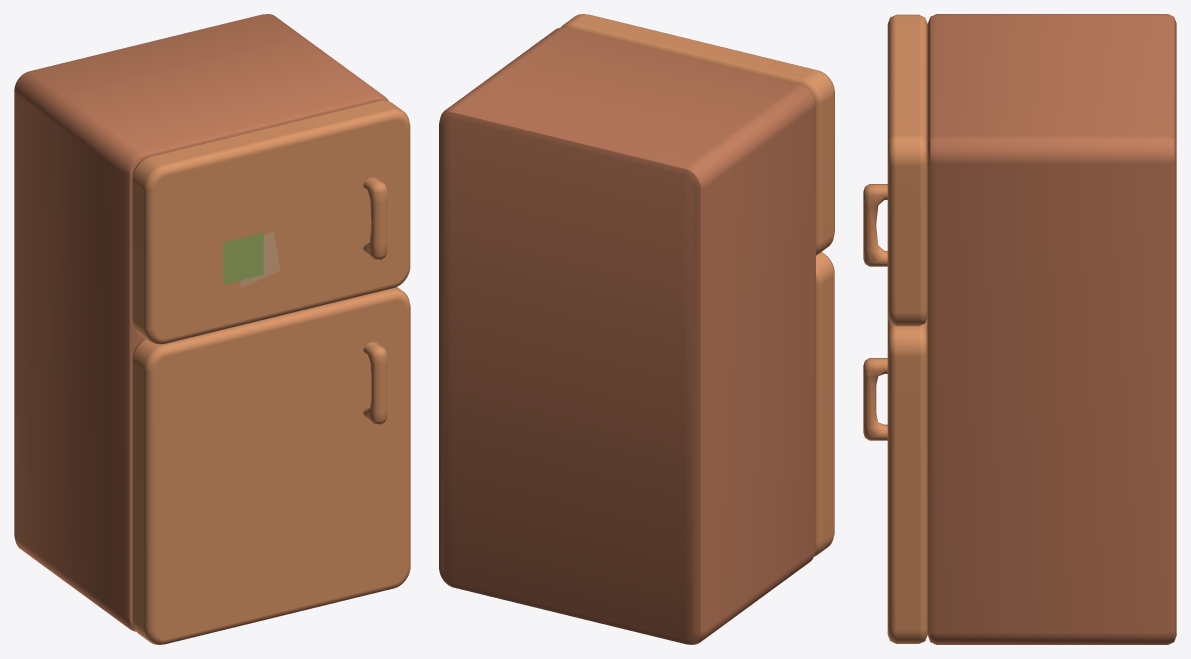
File: refrigerator-transformed.glb
3 views of the same model, side by side, from view 1: azimuth 30°, elevation 25°; view 2: azimuth 150°, elevation 25°; view 3: azimuth 270°, elevation 25° (orthographic). The views are drawn at different scales.
Parts seen in each view (by area): view 1: Boolean.001, Rectangle 8.002, Rectangle 7.001, Rectangle 5.003, Cube 8.005, Cube 44.002, Rectangle 4.004; view 2: Boolean.001, Rectangle 7.001, Rectangle 8.002; view 3: Boolean.001, Rectangle 8.002, Rectangle 7.001, Cube 8.005, Cube 44.002.
Part boxes in pixels (bbox=[...]): Boolean.001: bbox=[14, 14, 388, 631]; Rectangle 8.002: bbox=[132, 287, 410, 644]; Rectangle 7.001: bbox=[132, 100, 410, 344]; Rectangle 5.003: bbox=[223, 232, 263, 284]; Cube 8.005: bbox=[363, 177, 387, 259]; Cube 44.002: bbox=[363, 342, 387, 424]; Rectangle 4.004: bbox=[239, 231, 280, 287]; Boolean.001: bbox=[439, 27, 815, 644]; Rectangle 7.001: bbox=[561, 14, 834, 255]; Rectangle 8.002: bbox=[814, 252, 834, 556]; Boolean.001: bbox=[927, 14, 1176, 644]; Rectangle 8.002: bbox=[887, 317, 927, 643]; Rectangle 7.001: bbox=[887, 14, 927, 326]; Cube 8.005: bbox=[863, 184, 887, 266]; Cube 44.002: bbox=[863, 358, 887, 440].
Size of the model in its own units: 1.15 by 1.98 by 1.11.
